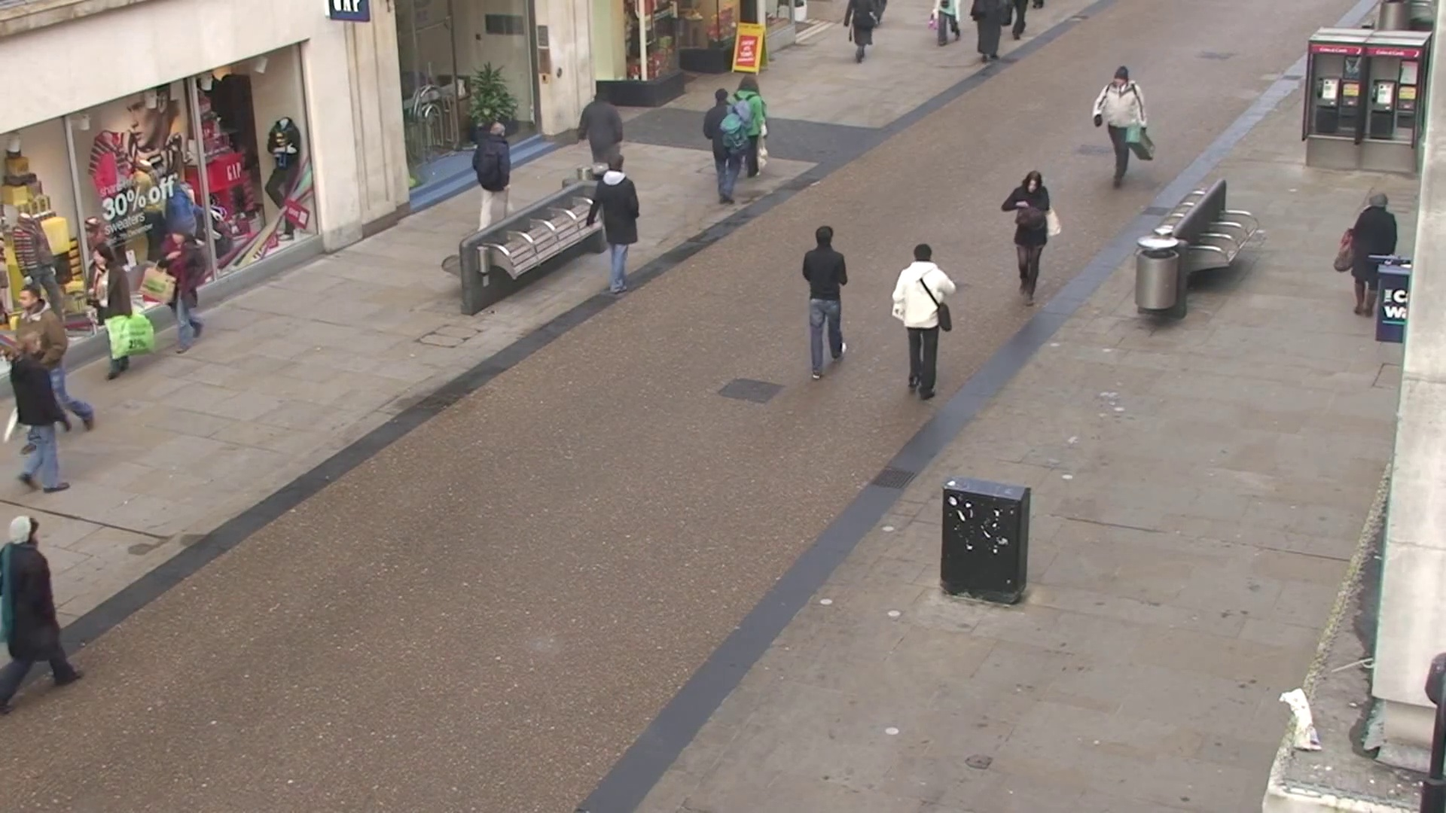person: (58, 222, 157, 391), (5, 299, 90, 494), (0, 513, 83, 711), (891, 241, 956, 401), (1335, 189, 1399, 318), (1094, 65, 1153, 189), (801, 225, 848, 379), (1001, 170, 1055, 302), (590, 154, 640, 294), (840, 0, 909, 81), (702, 86, 747, 205), (164, 229, 208, 346), (471, 117, 511, 233), (972, 6, 1023, 88), (579, 90, 624, 172), (737, 83, 768, 178)
